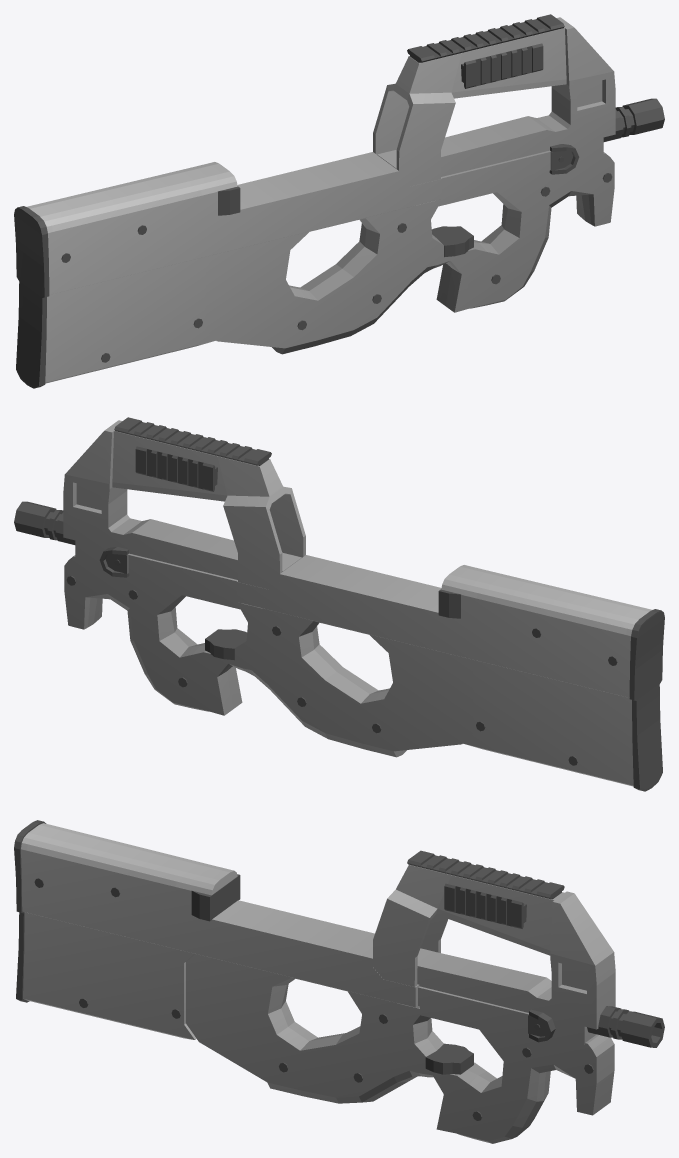
File: SMG4_02.fbx
3 views of the same model, one above another, from view 1: azimuth 30°, elevation 25°; view 2: azimuth 150°, elevation 25°; view 3: azimuth 330°, elevation 25° (orthographic).
Parts seen in each view (by area): view 1: SMG4_02; view 2: SMG4_02; view 3: SMG4_02.
Boxes of the visible parts, box(x1,y1,x2,y2) form: SMG4_02: box(14, 14, 664, 388); SMG4_02: box(14, 417, 664, 791); SMG4_02: box(14, 820, 664, 1143).
Bounding box in the file's own units: 0.6062 × 0.244 × 0.0506.
